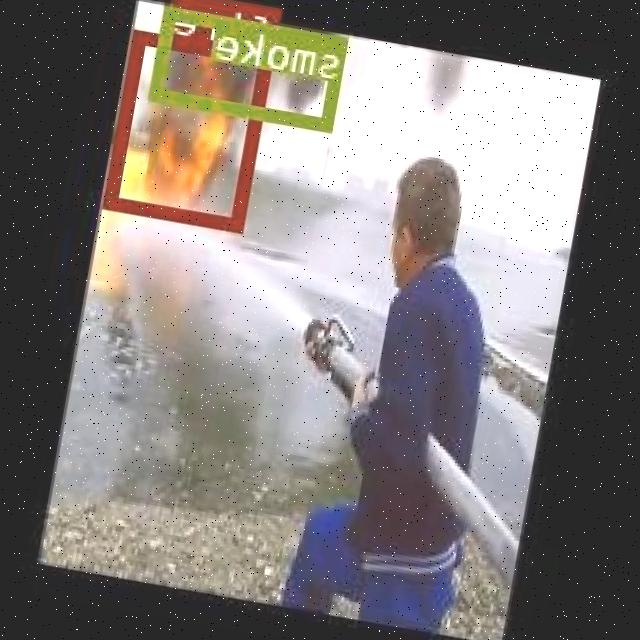fire: (106, 28, 276, 230)
smoke: (150, 3, 352, 129)
